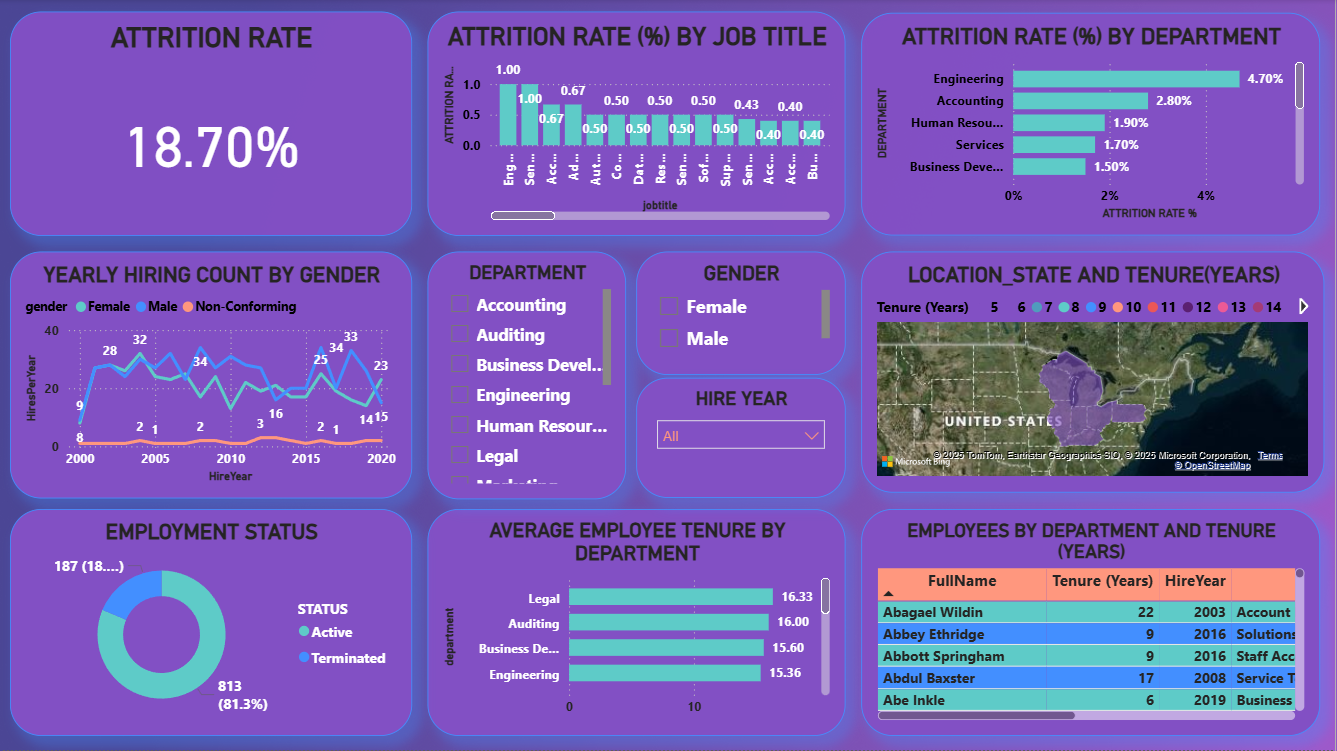

The page's visual inventory and layout, read from the dashboard file:
{"tool":"powerbi","page":{"name":"Page 2","canvas":[1280,720],"ordinal":1},"visuals":[{"type":"filledMap","title":"LOCATION_STATE AND TENURE(YEARS)","fields":{"Category":["Hrdatapro.location_state"],"Series":["Hrdatapro.Tenure (Years)"]},"box":[825.3,242.4,444.4,230.8],"z":0},{"type":"lineChart","title":"YEARLY HIRING COUNT BY GENDER","fields":{"Series":["Hrdatapro.gender"],"Category":["Hrdatapro.HireYear"],"Y":["Hrdatapro.HiresPerYear"]},"box":[10.1,242.4,385.2,236.6],"z":1000},{"type":"tableEx","title":"EMPLOYEES BY DEPARTMENT AND TENURE (YEARS)","fields":{"Values":["Hrdatapro.FullName","Hrdatapro.Tenure (Years)","Hrdatapro.HireYear","Hrdatapro.jobtitle","Hrdatapro.department","Hrdatapro.employment_status"]},"box":[825.3,489.1,440,217.9],"z":2000},{"type":"clusteredBarChart","title":"AVERAGE EMPLOYEE TENURE BY DEPARTMENT","fields":{"Category":["Hrdatapro.department"],"Y":["Hrdatapro.Tenure (Years)"]},"box":[409.7,489.1,401.1,217.9],"z":3000},{"type":"slicer","title":"DEPARTMENT","fields":{"Values":["Hrdatapro.department"]},"box":[409.9,242.1,190.6,237.3],"z":4000},{"type":"slicer","title":"GENDER","fields":{"Values":["Hrdatapro.gender"]},"box":[610.3,242.4,200.5,118.3],"z":5000},{"type":"slicer","title":"HIRE YEAR","fields":{"Values":["Hrdatapro.HireYear"]},"box":[610.3,363.6,200.5,115.4],"z":6000},{"type":"donutChart","title":"EMPLOYMENT STATUS","fields":{"Category":["Hrdatapro.employment_status"],"Y":["Hrdatapro.id"]},"box":[10.1,489.1,385.2,217.9],"z":7000},{"type":"card","title":"ATTRITION RATE","fields":{"Values":["Hrdatapro.Attrition Rate (%)"]},"box":[10.1,11.5,385.2,215],"z":8000},{"type":"barChart","title":"ATTRITION RATE (%) BY DEPARTMENT","fields":{"Category":["Hrdatapro.department"],"Y":["Hrdatapro.Attrition Rate (%)","select"]},"box":[825.3,13,440,213.5],"z":9000},{"type":"clusteredColumnChart","title":"ATTRITION RATE (%) BY JOB TITLE","fields":{"Category":["Hrdatapro.jobtitle"],"Y":["Hrdatapro.Attrition Rate by Job Title (%)"]},"box":[409.7,11.5,401.1,215],"z":11000}]}

Visuals, with their boxes in screenshot pixels (x1, y1, x2, y2), scaled from the page's 1280x720 canvas onto the 1337x751 screenshot:
"LOCATION_STATE AND TENURE(YEARS)" filledMap: l=862, t=253, r=1326, b=494
"YEARLY HIRING COUNT BY GENDER" lineChart: l=11, t=253, r=413, b=500
"EMPLOYEES BY DEPARTMENT AND TENURE (YEARS)" tableEx: l=862, t=510, r=1322, b=737
"AVERAGE EMPLOYEE TENURE BY DEPARTMENT" clusteredBarChart: l=428, t=510, r=847, b=737
"DEPARTMENT" slicer: l=428, t=253, r=627, b=500
"GENDER" slicer: l=637, t=253, r=847, b=376
"HIRE YEAR" slicer: l=637, t=379, r=847, b=500
"EMPLOYMENT STATUS" donutChart: l=11, t=510, r=413, b=737
"ATTRITION RATE" card: l=11, t=12, r=413, b=236
"ATTRITION RATE (%) BY DEPARTMENT" barChart: l=862, t=14, r=1322, b=236
"ATTRITION RATE (%) BY JOB TITLE" clusteredColumnChart: l=428, t=12, r=847, b=236
